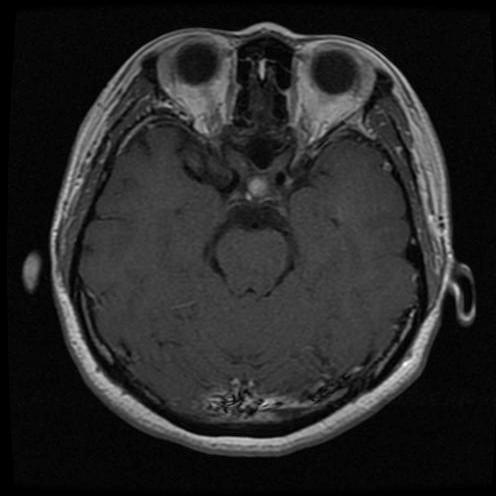Tumour-Pituitary: (245, 175, 268, 202)
